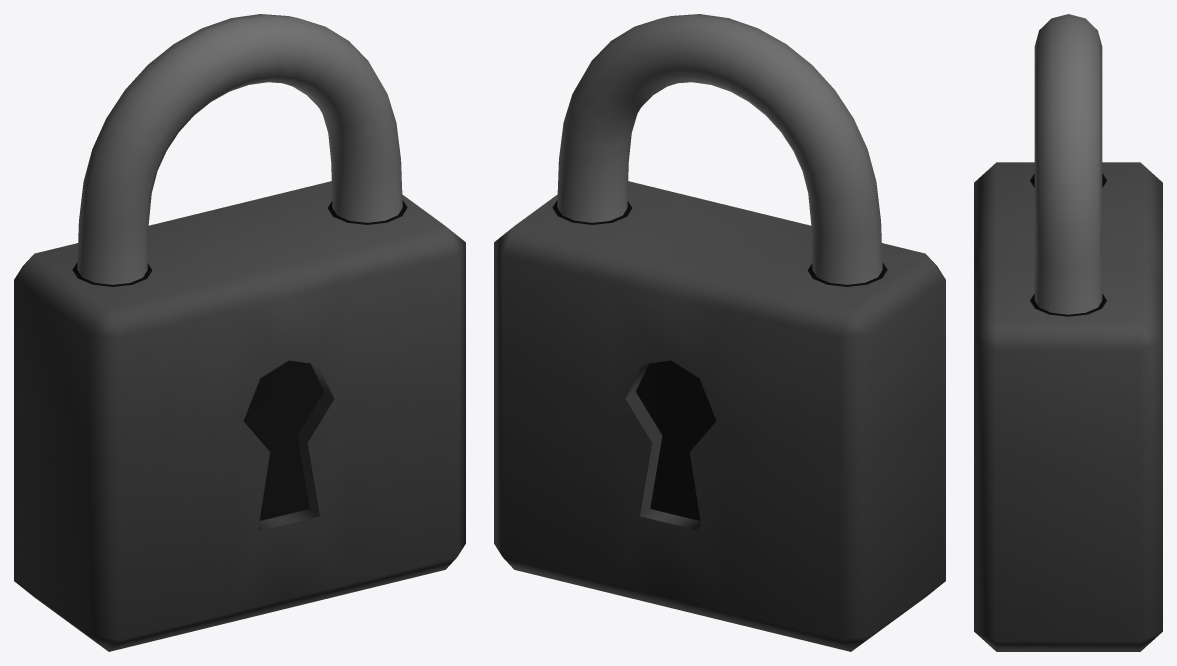
Rendered from Lock.fbx.
The picture shows the model from 3 angles, left to right: view 1: azimuth 30°, elevation 25°; view 2: azimuth 150°, elevation 25°; view 3: azimuth 270°, elevation 25°; orthographic projection. The views are drawn at different scales.
Visible parts, largest first — view 1: Lock; view 2: Lock; view 3: Lock.
Part boxes in pixels (x1,y1,x2,y2): Lock: [14, 14, 465, 651]; Lock: [494, 14, 945, 651]; Lock: [974, 14, 1162, 651].
Size of the model in its own units: 168 by 239 by 75.41.
